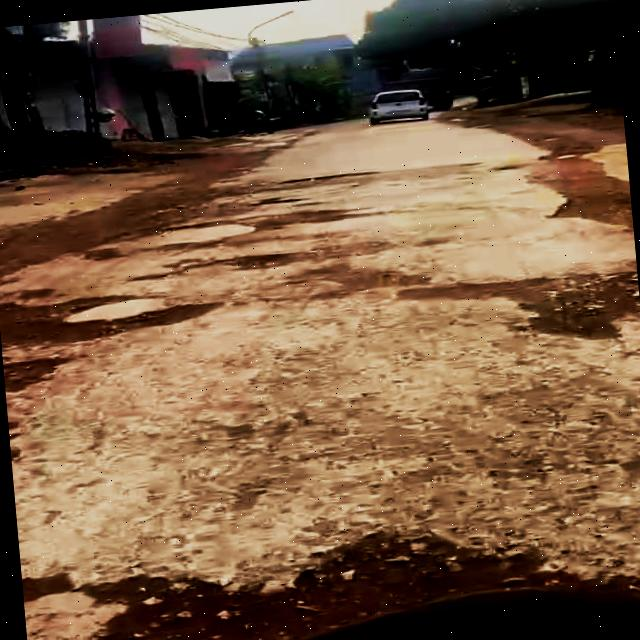pothole: (39, 510, 640, 640), (469, 263, 640, 348), (0, 292, 243, 349), (2, 352, 76, 393), (207, 248, 300, 270)
